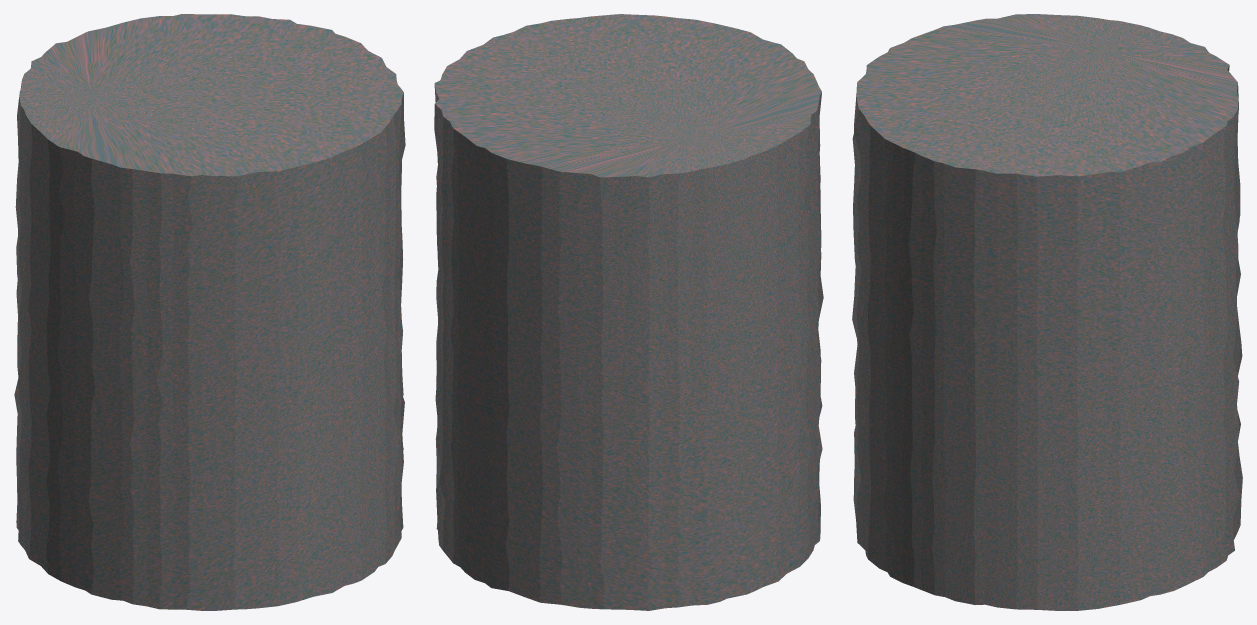
The model's file is barrel_23.dae.
The picture shows the model from 3 angles, left to right: view 1: azimuth 30°, elevation 25°; view 2: azimuth 150°, elevation 25°; view 3: azimuth 270°, elevation 25°; orthographic projection.
Parts seen in each view (by area): view 1: Cylinder; view 2: Cylinder; view 3: Cylinder.
Part boxes in pixels (bbox=[...]): Cylinder: bbox=[14, 14, 405, 610]; Cylinder: bbox=[434, 14, 823, 610]; Cylinder: bbox=[852, 14, 1242, 610].
Bounding box in the file's own units: 0.8147 × 0.8158 × 1.
1 material, 1 textured.
